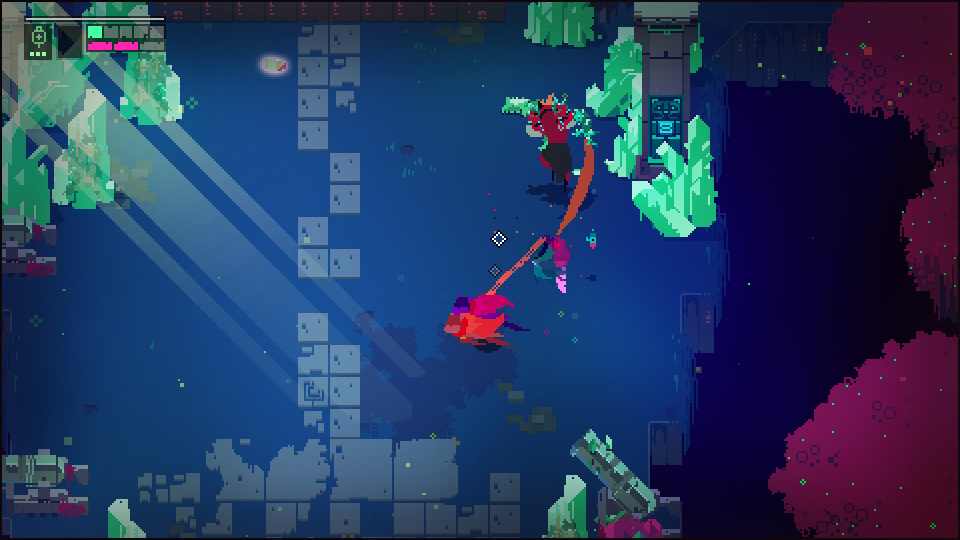hanged_man: (499, 90, 601, 188)
player: (440, 310, 508, 345)
